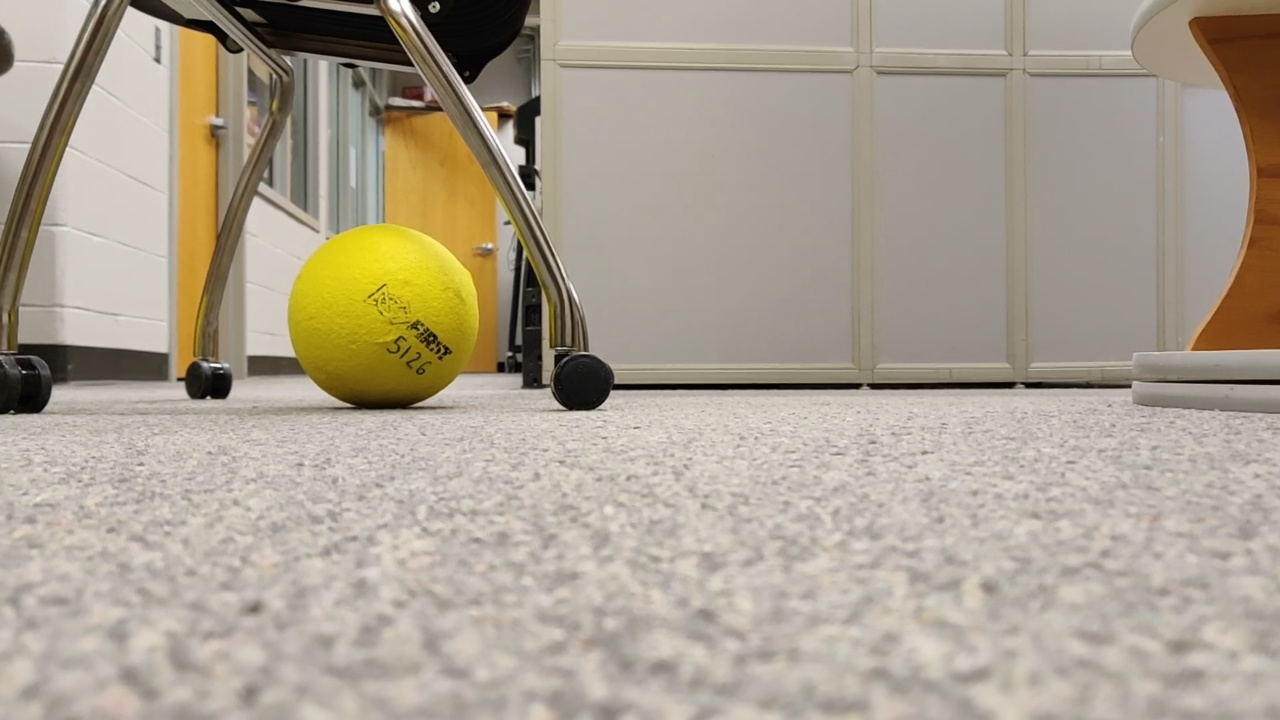Ball: (297, 222, 468, 407)
